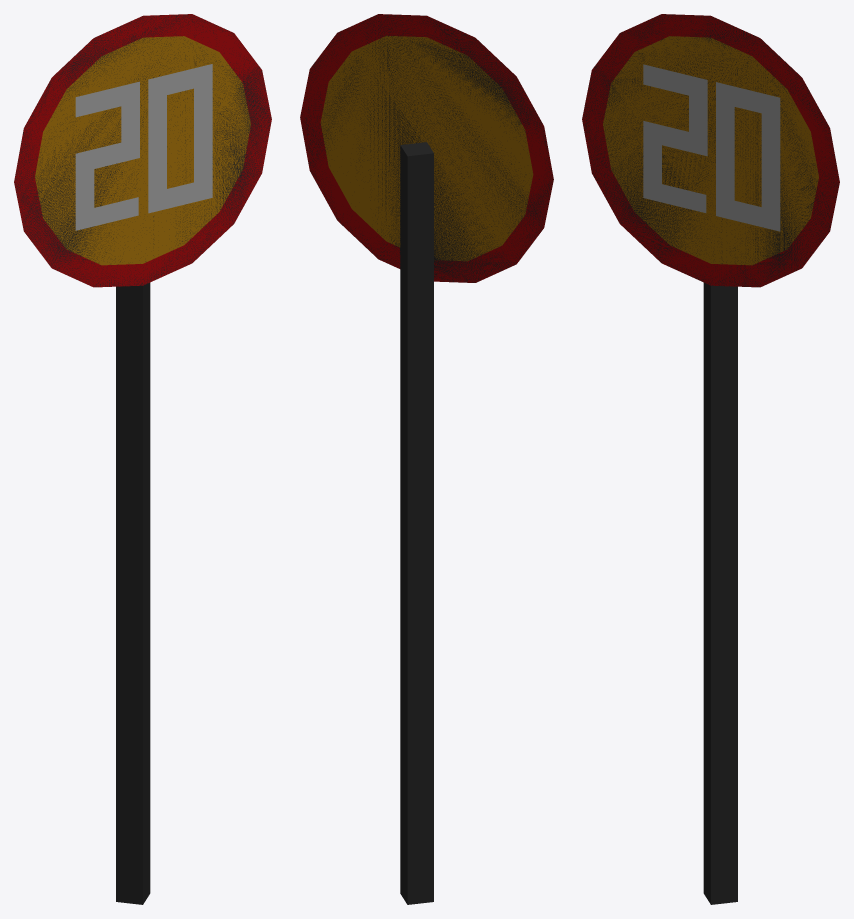
Rendered from 20kmh.obj.
3 renders of one model, left to right at view 1: azimuth 30°, elevation 25°; view 2: azimuth 150°, elevation 25°; view 3: azimuth 330°, elevation 25°, orthographic.
Visible parts, largest first — view 1: Cylinder.008; view 2: Cylinder.008; view 3: Cylinder.008.
Boxes of the visible parts, bbox=[...] form: Cylinder.008: bbox=[14, 14, 271, 904]; Cylinder.008: bbox=[300, 14, 553, 904]; Cylinder.008: bbox=[582, 14, 839, 904].
Bounding box in the file's own units: 0.8957 × 2.95 × 0.1199.
